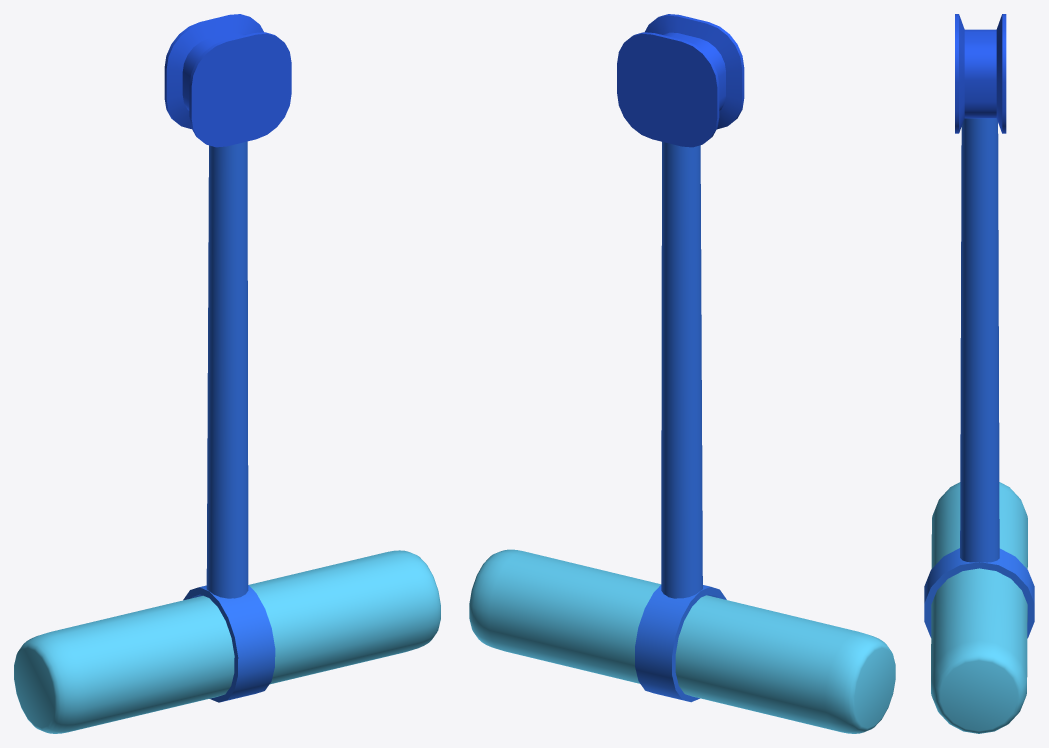
File: Obstacle.fbx
3 views of the same model, side by side, from view 1: azimuth 30°, elevation 25°; view 2: azimuth 150°, elevation 25°; view 3: azimuth 270°, elevation 25° (orthographic). The views are drawn at different scales.
Parts seen in each view (by area): view 1: Obstacle_1; view 2: Obstacle_1; view 3: Obstacle_1.
Boxes of the visible parts, x1,y1,x2,y2 form: Obstacle_1: (14,14,440,733); Obstacle_1: (469,14,895,733); Obstacle_1: (924,14,1034,733).
Size of the model in its own units: 3.02 by 4.97 by 0.7882.
